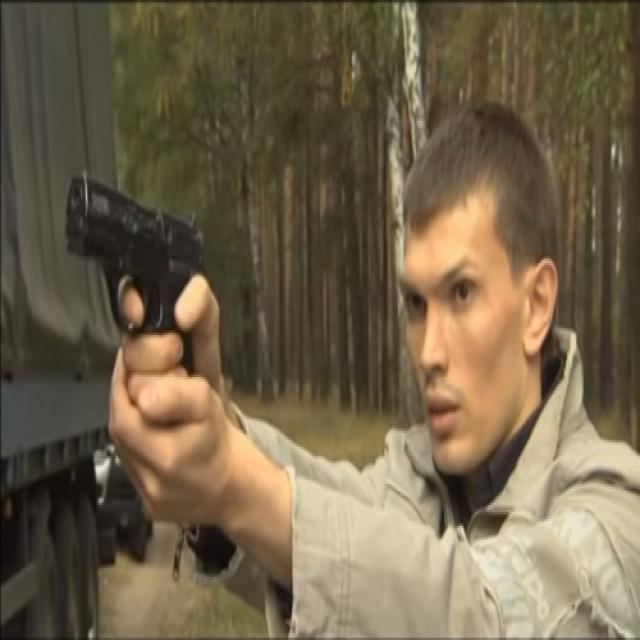weapons: (61, 158, 220, 458)
